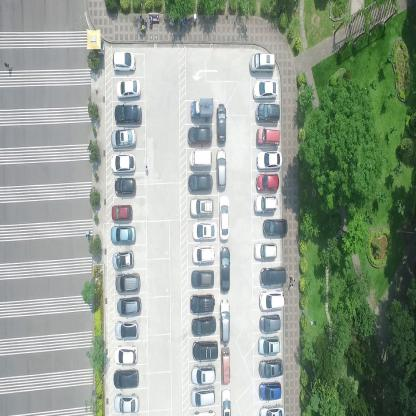car: (114, 104, 143, 126), (190, 96, 215, 121), (186, 124, 214, 146), (188, 293, 216, 315), (112, 367, 140, 389), (112, 50, 137, 74), (190, 363, 216, 386), (192, 339, 219, 361), (110, 128, 137, 150), (114, 272, 141, 294), (114, 319, 141, 341), (219, 244, 231, 292), (250, 52, 275, 75), (252, 79, 278, 101), (255, 126, 281, 148), (189, 196, 215, 218), (191, 316, 217, 338), (190, 386, 216, 408), (110, 152, 136, 174), (114, 391, 140, 413), (256, 150, 283, 171), (259, 290, 286, 311), (218, 195, 230, 242), (192, 219, 216, 242), (262, 218, 289, 238), (260, 266, 287, 286), (256, 102, 280, 124), (117, 297, 142, 318), (116, 79, 142, 99), (112, 249, 135, 271), (258, 380, 282, 401), (110, 202, 134, 223), (253, 242, 278, 262), (110, 226, 136, 245), (257, 359, 284, 377), (114, 176, 137, 197), (220, 297, 230, 345), (188, 148, 212, 168), (113, 345, 137, 365), (191, 246, 216, 265), (216, 102, 227, 144), (256, 172, 279, 192), (191, 268, 214, 288), (254, 194, 278, 213), (257, 335, 281, 354), (216, 148, 227, 189), (260, 314, 282, 334), (188, 173, 213, 190), (221, 345, 231, 386), (221, 386, 232, 415), (259, 404, 284, 415)
